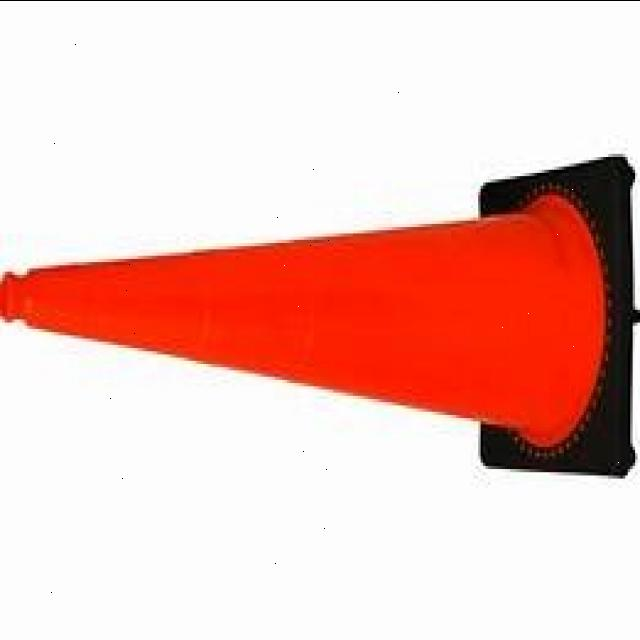traffic cone: (3, 144, 640, 492)
